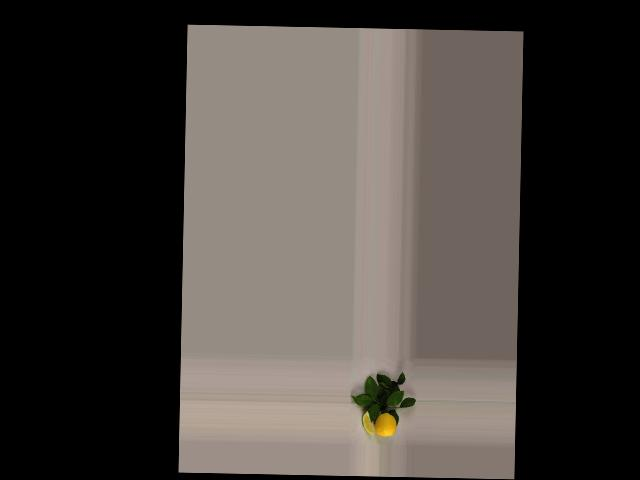lemon: (376, 410, 397, 436)
